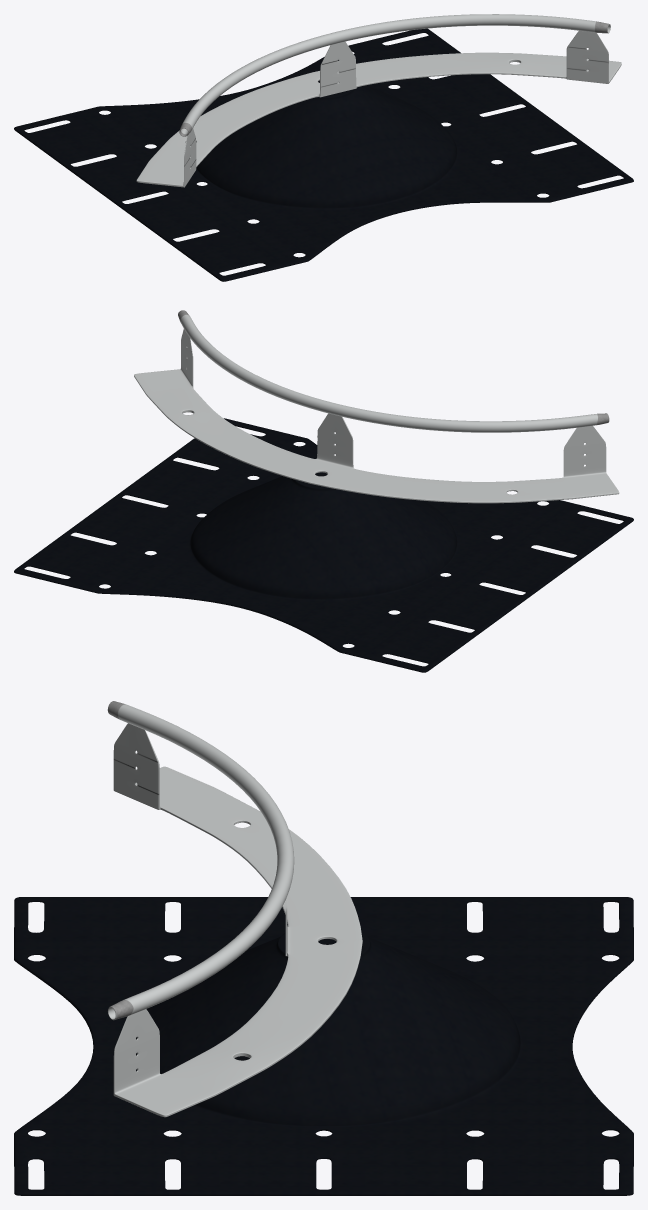
3 views of the same model, one above another, from view 1: azimuth 30°, elevation 25°; view 2: azimuth 150°, elevation 25°; view 3: azimuth 270°, elevation 25° (orthographic). The views are drawn at different scales.
Visible parts, largest first — view 1: Base_plate, center_angle, top_pipe; view 2: Base_plate, center_angle, top_pipe; view 3: Base_plate, center_angle, top_pipe.
Part boxes in pixels (x1,y1,x2,y2): Base_plate: (14, 28, 633, 281); center_angle: (136, 30, 621, 187); top_pipe: (179, 14, 610, 136); Base_plate: (14, 418, 633, 672); center_angle: (134, 329, 619, 503); top_pipe: (178, 310, 609, 432); Base_plate: (14, 897, 633, 1195); center_angle: (113, 723, 362, 1117); top_pipe: (107, 701, 294, 1020).
Size of the model in its own units: 10.85 by 2.83 by 8.15.
Materials: 1 (1 with a texture image).
